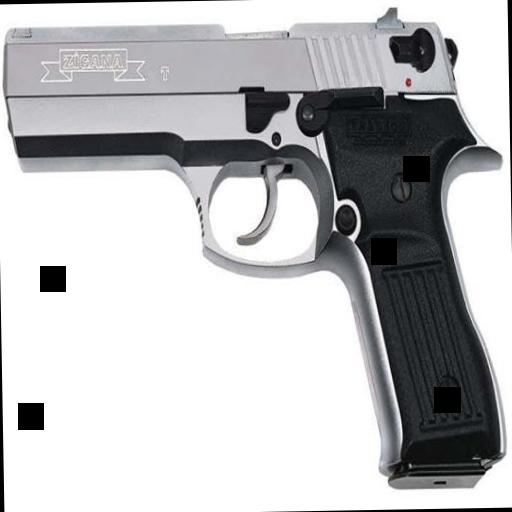Handgun: (0, 2, 504, 496)
